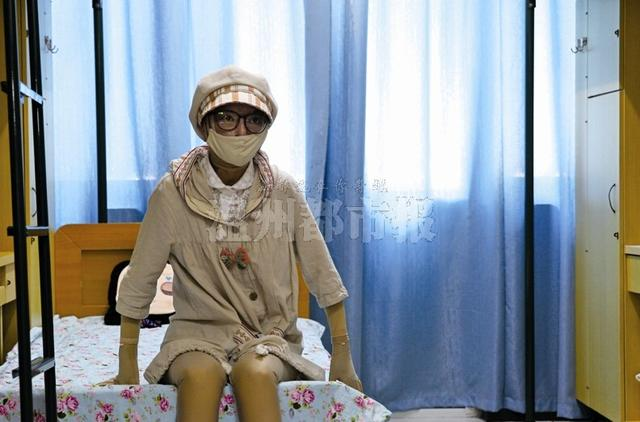face_mask: (210, 94, 269, 165)
